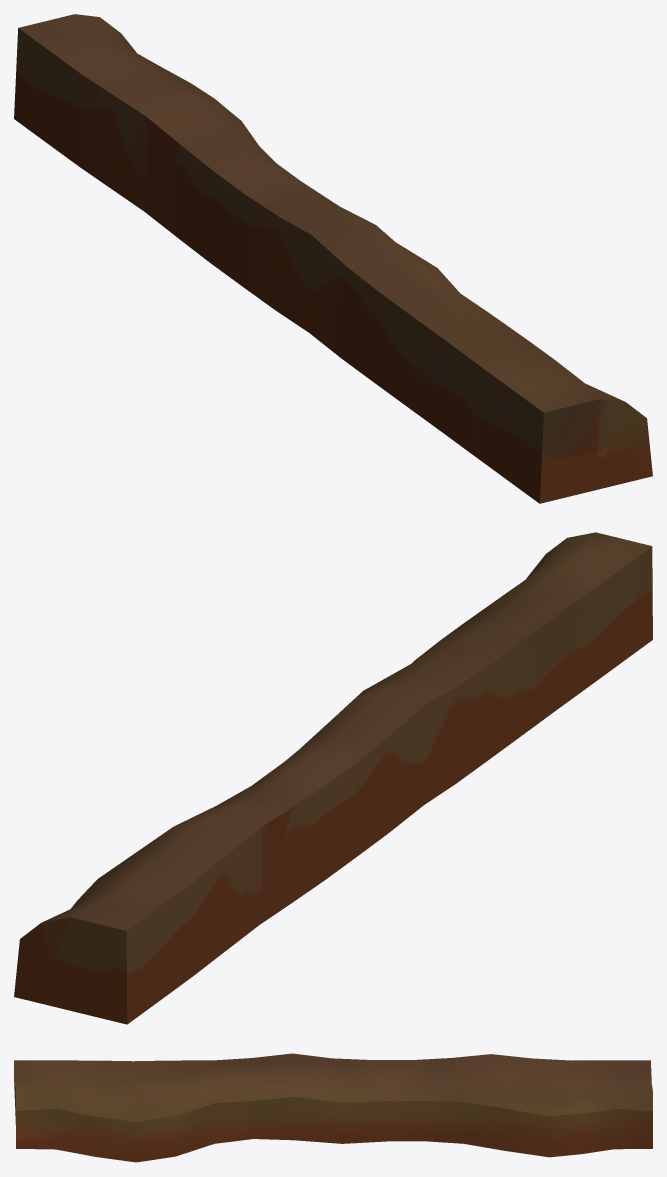
File: CostadoTierraNuevo.fbx
3 views of the same model, one above another, from view 1: azimuth 30°, elevation 25°; view 2: azimuth 150°, elevation 25°; view 3: azimuth 270°, elevation 25° (orthographic). The views are drawn at different scales.
Parts seen in each view (by area): view 1: Costado; view 2: Costado; view 3: Costado.
Part boxes in pixels (left/top/right/bottom): Costado: left=14, top=14, right=652, bottom=503; Costado: left=14, top=532, right=652, bottom=1024; Costado: left=14, top=1053, right=652, bottom=1162.
Bounding box in the file's own units: 828 × 697 × 5647.
Materials: 1 (1 with a texture image).
